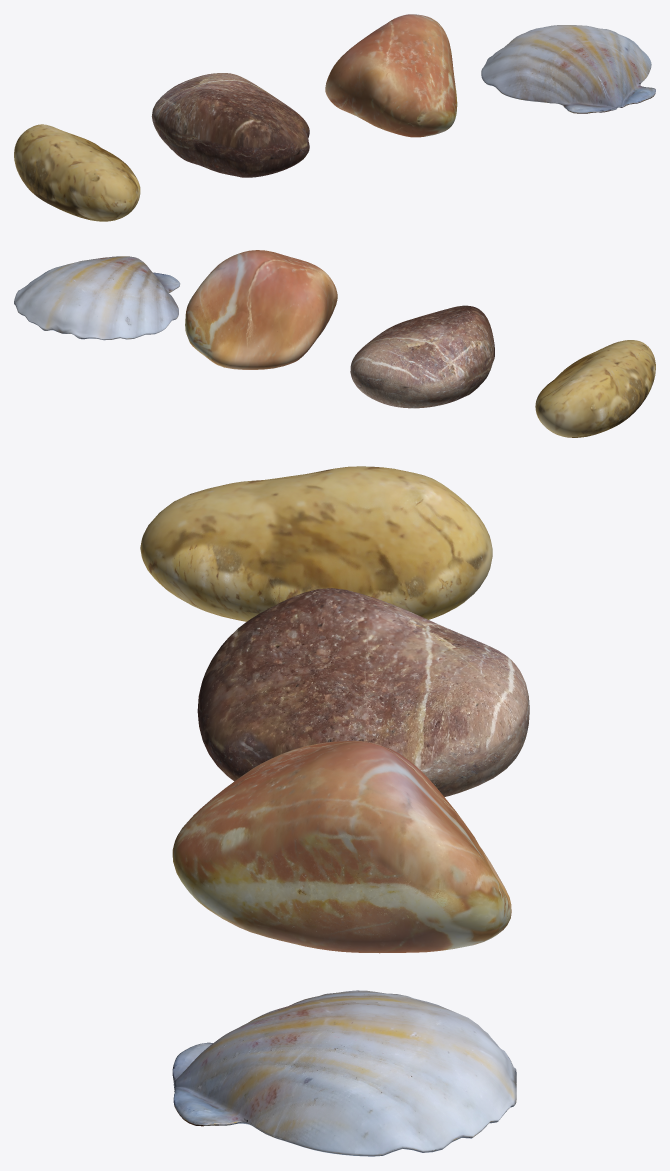
Rendered from stonesAndSeashell_edit_for_FBX.fbx.
3 views of the same model, one above another, from view 1: azimuth 30°, elevation 25°; view 2: azimuth 150°, elevation 25°; view 3: azimuth 270°, elevation 25° (orthographic). The views are drawn at different scales.
Parts seen in each view (by area): view 1: stone02, stone03, seashell01, stone01; view 2: stone03, stone02, seashell01, stone01; view 3: stone03, stone02, seashell01, stone01.
Boxes of the visible parts, x1,y1,x2,y2 form: stone02: (151,73,309,177); stone03: (325,14,457,137); seashell01: (481,25,655,113); stone01: (14,124,140,221); stone03: (185,250,337,369); stone02: (350,305,494,408); seashell01: (14,256,180,340); stone01: (535,340,655,437); stone03: (172,740,511,953); stone02: (197,588,529,796); seashell01: (172,990,516,1156); stone01: (140,466,492,621).
Bounding box in the file's own units: 1116 × 164 × 313.
